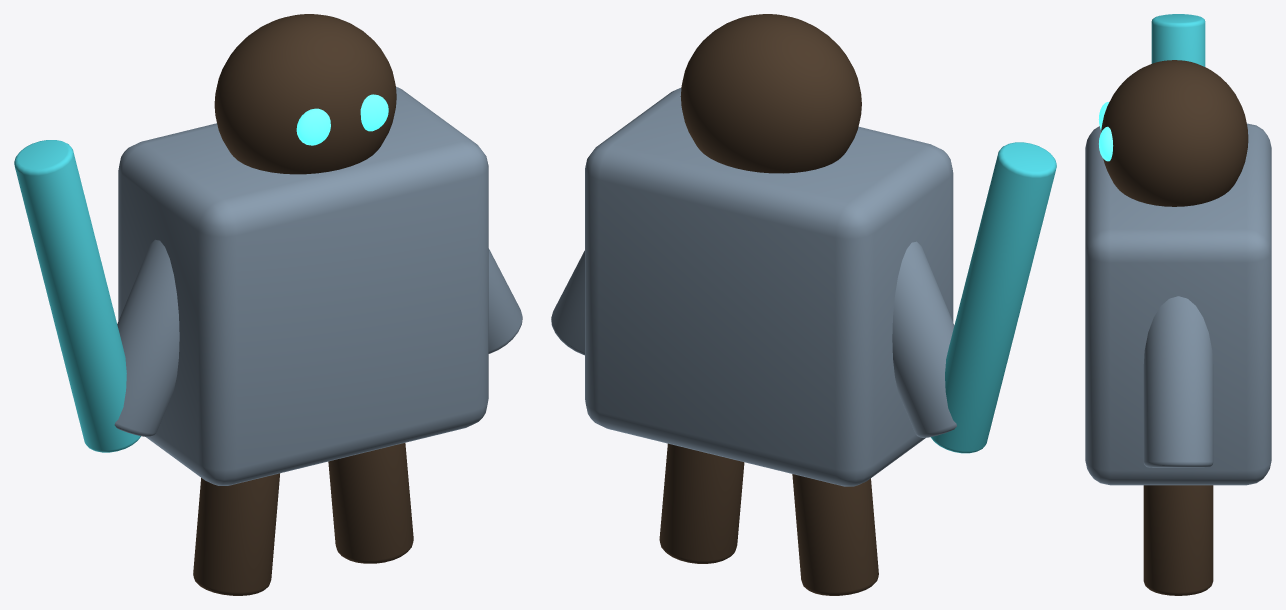
Rendered from humanoid_v5.glb.
3 renders of one model, left to right at view 1: azimuth 30°, elevation 25°; view 2: azimuth 150°, elevation 25°; view 3: azimuth 270°, elevation 25°, orthographic. The views are drawn at different scales.
Parts seen in each view (by area): view 1: BRUTE_TORSO_PRIMARY, BRUTE_HEAD_SECONDARY, BRUTE_CLUB_ACCENT, BRUTE_ARM_PRIMARY, BRUTE_LEG_SECONDARY, BRUTE_LEG_SECONDARY.001, BRUTE_ARM_PRIMARY.001, EYE_EMISSIVE, EYE_EMISSIVE.001; view 2: BRUTE_TORSO_PRIMARY, BRUTE_HEAD_SECONDARY, BRUTE_CLUB_ACCENT, BRUTE_ARM_PRIMARY, BRUTE_LEG_SECONDARY, BRUTE_LEG_SECONDARY.001, BRUTE_ARM_PRIMARY.001; view 3: BRUTE_TORSO_PRIMARY, BRUTE_HEAD_SECONDARY, BRUTE_ARM_PRIMARY.001, BRUTE_LEG_SECONDARY.001, BRUTE_CLUB_ACCENT, EYE_EMISSIVE.001.
Boxes of the visible parts, x1=… form: BRUTE_TORSO_PRIMARY: x1=118, y1=86, x2=488, y2=485; BRUTE_HEAD_SECONDARY: x1=214, y1=14, x2=396, y2=174; BRUTE_CLUB_ACCENT: x1=14, y1=140, x2=140, y2=452; BRUTE_ARM_PRIMARY: x1=114, y1=239, x2=179, y2=436; BRUTE_LEG_SECONDARY: x1=193, y1=473, x2=279, y2=595; BRUTE_LEG_SECONDARY.001: x1=328, y1=443, x2=413, y2=563; BRUTE_ARM_PRIMARY.001: x1=488, y1=248, x2=522, y2=353; EYE_EMISSIVE: x1=296, y1=108, x2=330, y2=145; EYE_EMISSIVE.001: x1=360, y1=94, x2=388, y2=131; BRUTE_TORSO_PRIMARY: x1=585, y1=88, x2=953, y2=486; BRUTE_HEAD_SECONDARY: x1=680, y1=14, x2=861, y2=173; BRUTE_CLUB_ACCENT: x1=930, y1=142, x2=1056, y2=453; BRUTE_ARM_PRIMARY: x1=892, y1=241, x2=956, y2=437; BRUTE_LEG_SECONDARY: x1=792, y1=474, x2=878, y2=595; BRUTE_LEG_SECONDARY.001: x1=659, y1=443, x2=744, y2=563; BRUTE_ARM_PRIMARY.001: x1=551, y1=250, x2=584, y2=355; BRUTE_TORSO_PRIMARY: x1=1085, y1=123, x2=1271, y2=485; BRUTE_HEAD_SECONDARY: x1=1101, y1=60, x2=1248, y2=206; BRUTE_ARM_PRIMARY.001: x1=1143, y1=296, x2=1213, y2=467; BRUTE_LEG_SECONDARY.001: x1=1143, y1=485, x2=1213, y2=595; BRUTE_CLUB_ACCENT: x1=1151, y1=14, x2=1205, y2=66; EYE_EMISSIVE.001: x1=1099, y1=126, x2=1113, y2=161.
Bounding box in the file's own units: 2.64 × 2.77 × 0.96.
